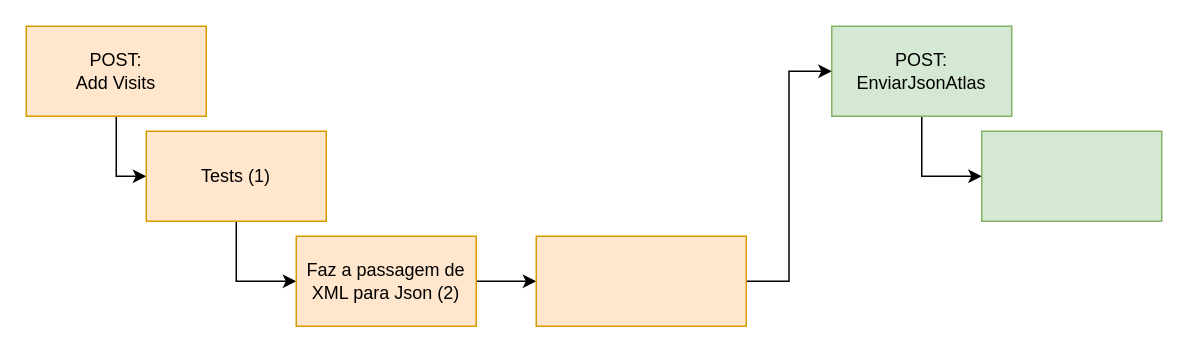
Image size: 1188x353. Some labels were removed from this diagram. The centre of each missing label's shape, as x and y in pixels:
"Envia para o cluster o objeto jsonData (4)" goes at [1071,175].
"Guarda o Objeto Json como uma variável global (jsonData) (3)" goes at [640,280].
